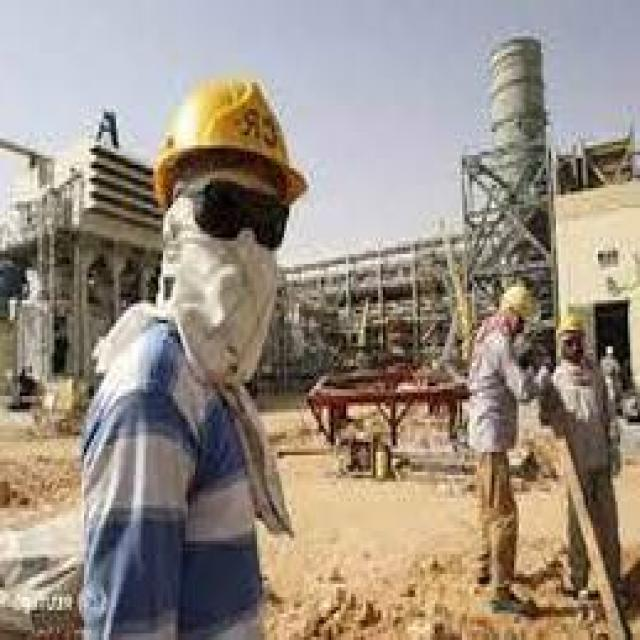Reflective-Jacket: (460, 310, 531, 462)
Safety-Helmet: (128, 53, 328, 218), (492, 277, 544, 337)
